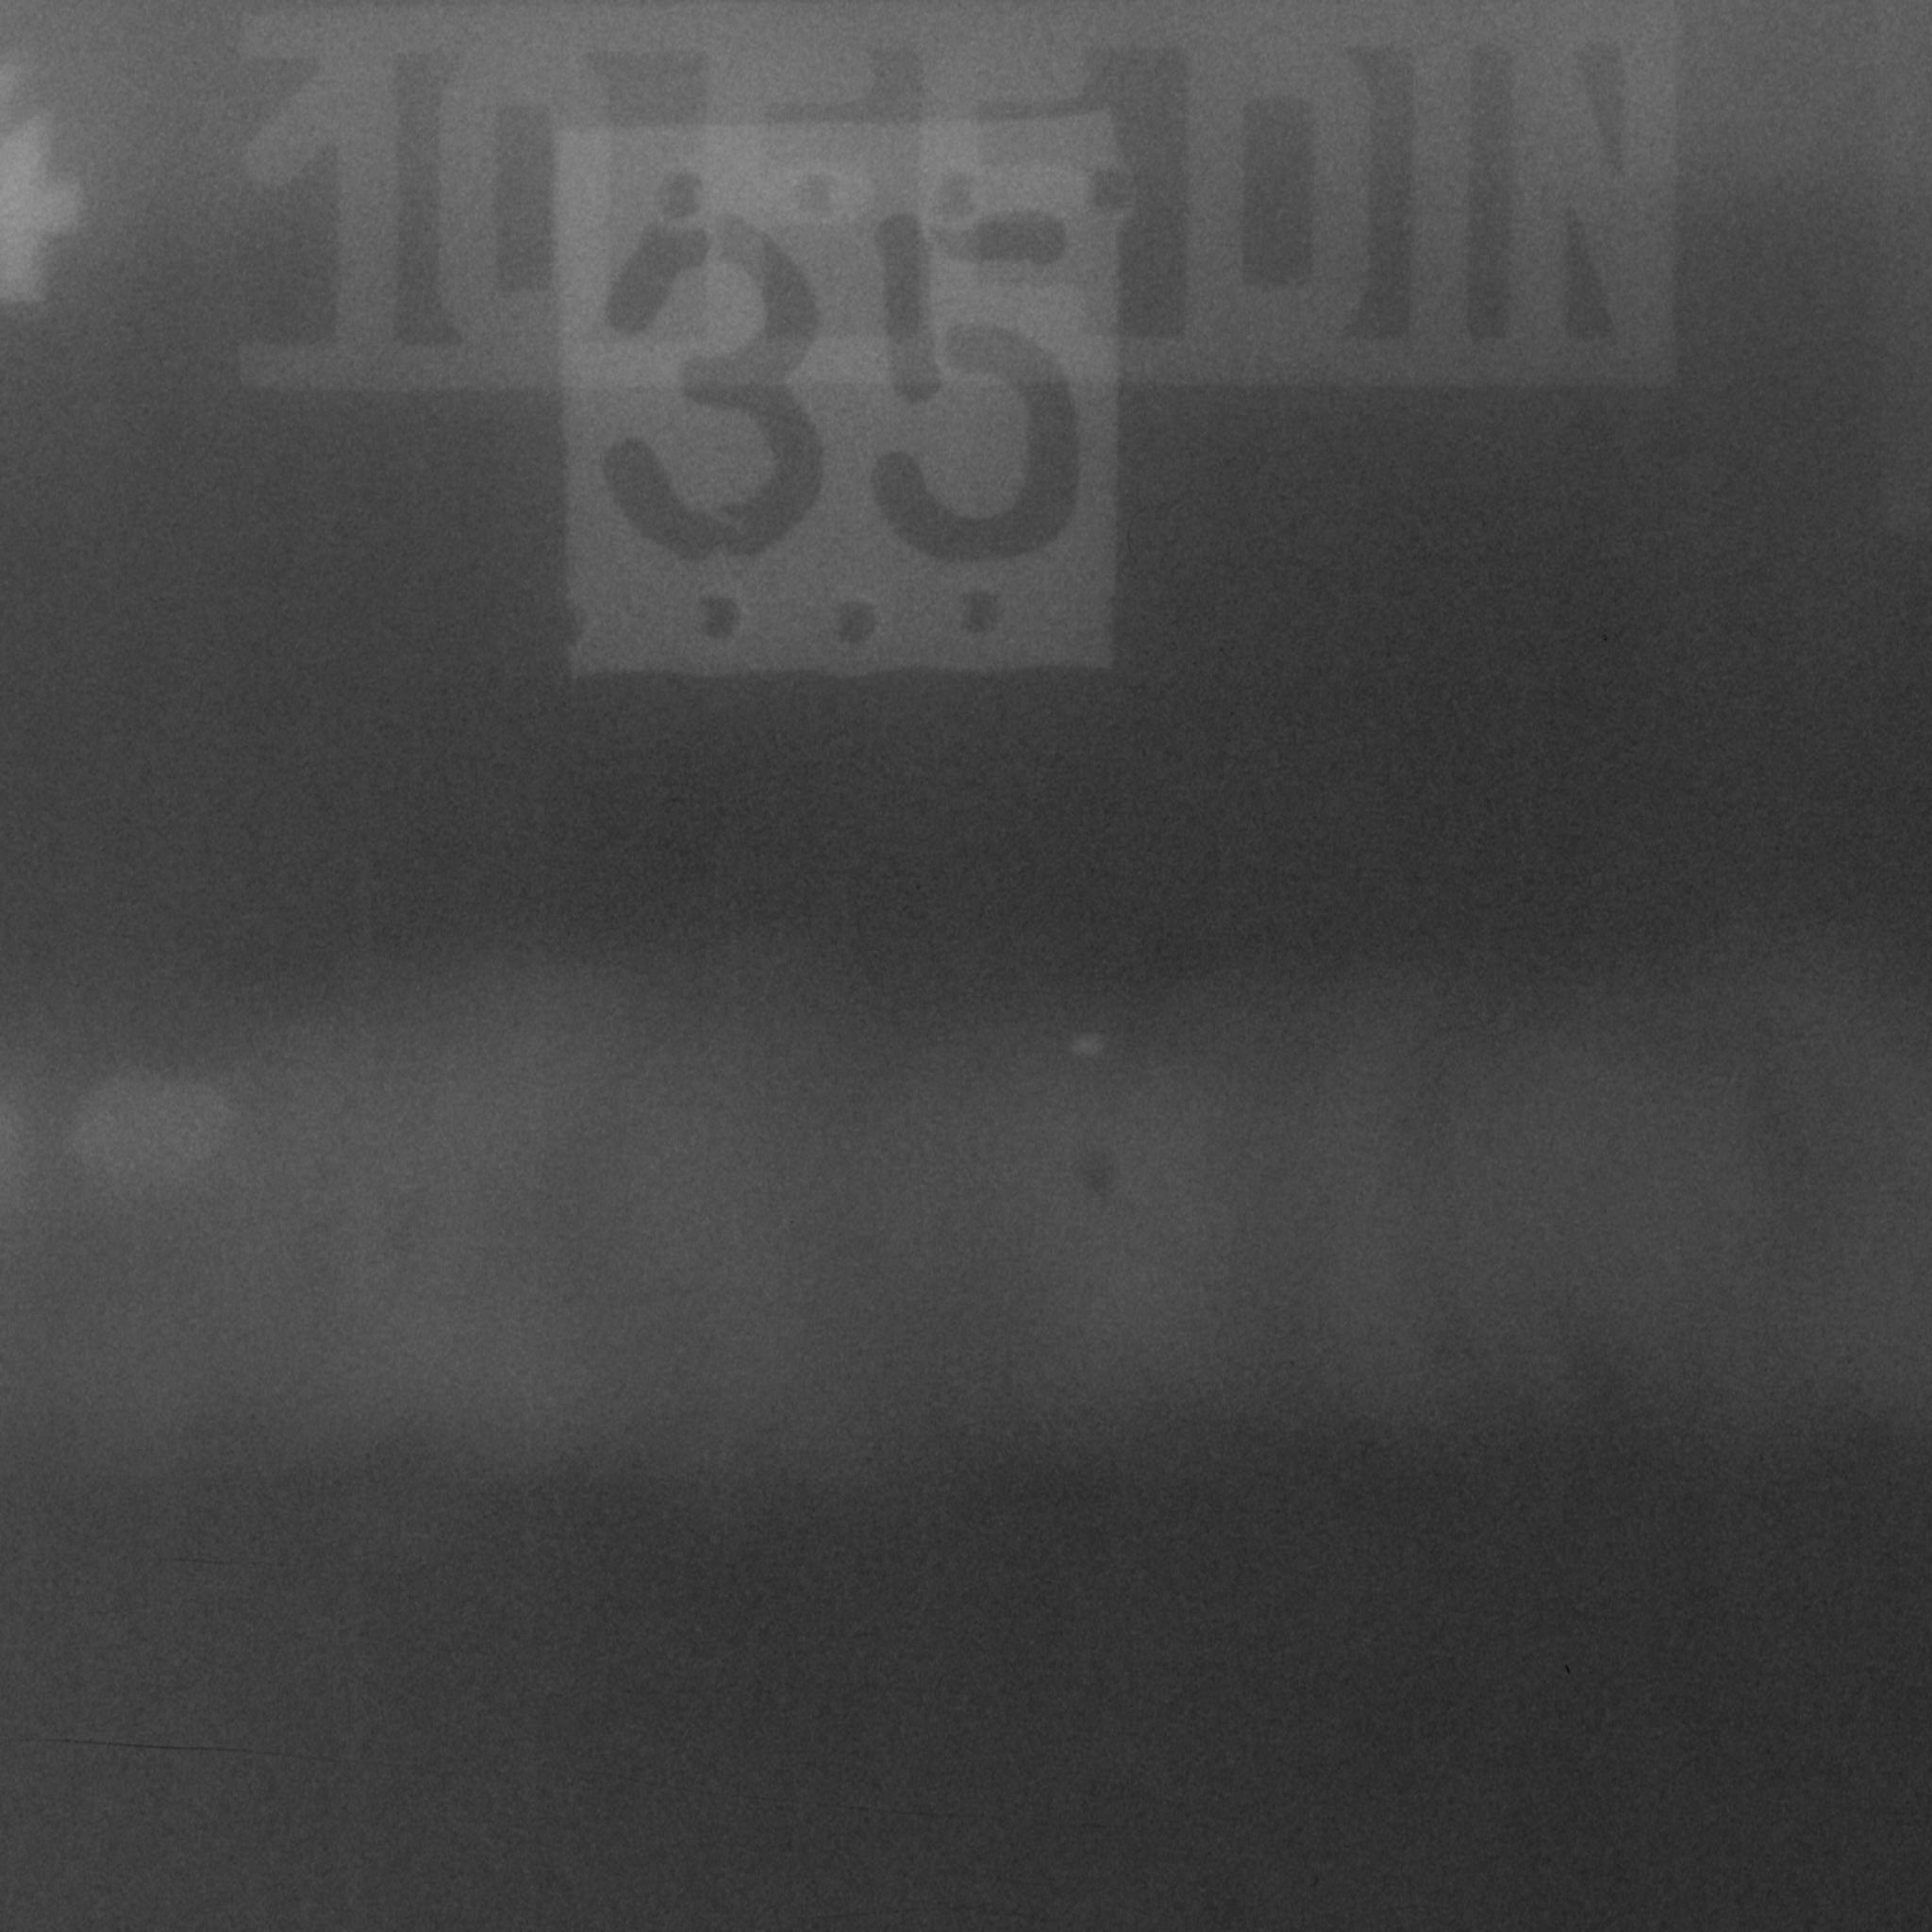PO: (1058, 1129, 1138, 1208)
